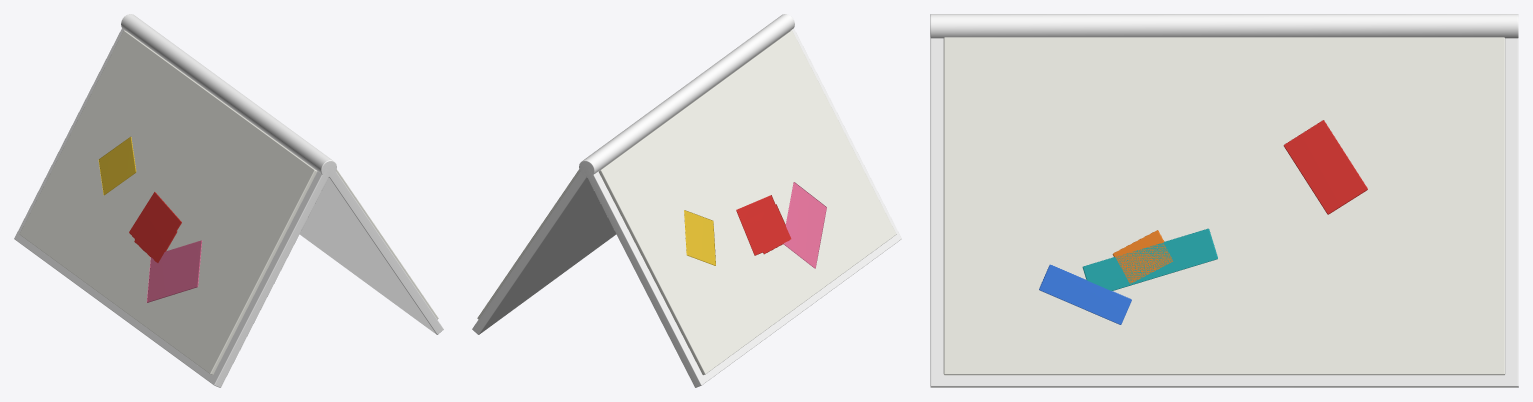
Rendered from coloring_book.glb.
3 renders of one model, left to right at view 1: azimuth 30°, elevation 25°; view 2: azimuth 150°, elevation 25°; view 3: azimuth 270°, elevation 25°, orthographic. The views are drawn at different scales.
Parts seen in each view (by area): view 1: coloring_book.001; view 2: coloring_book.001; view 3: coloring_book.001.
Part boxes in pixels (<box>): coloring_book.001: <box>14,14,443,387</box>; coloring_book.001: <box>472,14,901,387</box>; coloring_book.001: <box>930,14,1518,387</box>.
Bounding box in the file's own units: 17.21 × 14.38 × 26.
